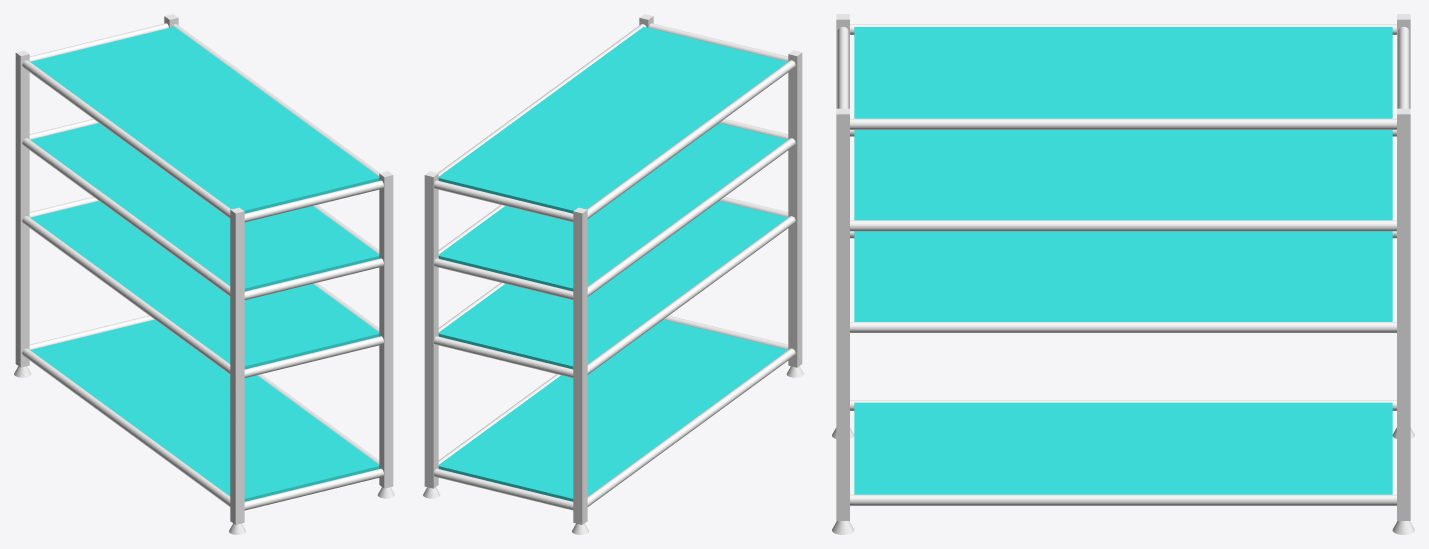
File: Shelf.gltf
The picture shows the model from 3 angles, left to right: view 1: azimuth 30°, elevation 25°; view 2: azimuth 150°, elevation 25°; view 3: azimuth 270°, elevation 25°; orthographic projection. The views are drawn at different scales.
Parts seen in each view (by area): view 1: Cube.007, Cube.004, Cube.005, Cube.006, Cube, Cube.002, Cube.001, Cylinder.004, Cylinder.012, Cylinder.008, Cylinder, Cylinder.002 (+7 smaller); view 2: Cube.007, Cube.004, Cube.006, Cube.005, Cube.001, Cube.003, Cube, Cylinder.004, Cylinder.008, Cylinder, Cylinder.012, Cylinder.011 (+7 smaller); view 3: Cube.004, Cube.007, Cube.005, Cube.006, Cylinder.001, Cylinder.009, Cylinder.013, Cylinder.005, Cube.002, Cube.003, Cylinder, Cylinder.012 (+2 smaller).
Part boxes in pixels (bbox=[...]): Cube.007: bbox=[30, 26, 379, 213]; Cube.004: bbox=[30, 319, 379, 501]; Cube.005: bbox=[30, 201, 379, 369]; Cube.006: bbox=[30, 123, 379, 291]; Cube: bbox=[230, 207, 244, 524]; Cube.002: bbox=[379, 171, 393, 488]; Cube.001: bbox=[15, 50, 29, 367]; Cylinder.004: bbox=[22, 216, 230, 374]; Cylinder.012: bbox=[22, 60, 230, 218]; Cylinder.008: bbox=[22, 138, 230, 296]; Cylinder: bbox=[22, 348, 230, 506]; Cylinder.002: bbox=[244, 468, 383, 510]; Cube.007: bbox=[438, 26, 787, 213]; Cube.004: bbox=[438, 319, 787, 501]; Cube.006: bbox=[438, 123, 787, 291]; Cube.005: bbox=[438, 201, 787, 369]; Cube.001: bbox=[573, 207, 587, 524]; Cube.003: bbox=[424, 171, 438, 488]; Cube: bbox=[788, 50, 802, 367]; Cylinder.004: bbox=[587, 216, 795, 374]; Cylinder.008: bbox=[587, 138, 795, 296]; Cylinder: bbox=[587, 348, 795, 506]; Cylinder.012: bbox=[587, 60, 795, 218]; Cylinder.011: bbox=[434, 258, 573, 300]; Cube.004: bbox=[854, 402, 1392, 494]; Cube.007: bbox=[854, 27, 1392, 118]; Cube.005: bbox=[854, 231, 1392, 321]; Cube.006: bbox=[854, 130, 1392, 220]; Cylinder.001: bbox=[850, 494, 1396, 505]; Cylinder.009: bbox=[850, 220, 1396, 231]; Cylinder.013: bbox=[850, 118, 1396, 129]; Cylinder.005: bbox=[850, 322, 1396, 332]; Cube.002: bbox=[836, 108, 849, 520]; Cube.003: bbox=[1397, 108, 1410, 520]; Cylinder: bbox=[850, 400, 1396, 410]; Cylinder.012: bbox=[850, 24, 1396, 34].
Bounding box in the file's own units: 1.1 × 2.06 × 2.6.
